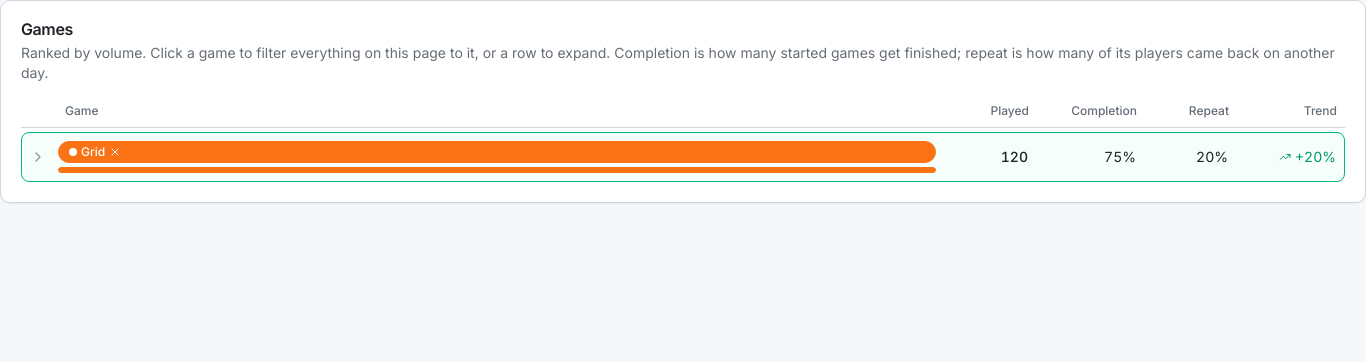
the game leaderboard explains its player figures › offers the definition for both, on the expanded row
The width and height of the screenshot is (1366, 362).
What coordinates should you click on to do the following:
click the button named "Expand details"
I would click on:
 (38, 157)
Its box is x1=30 y1=149 x2=46 y2=165.
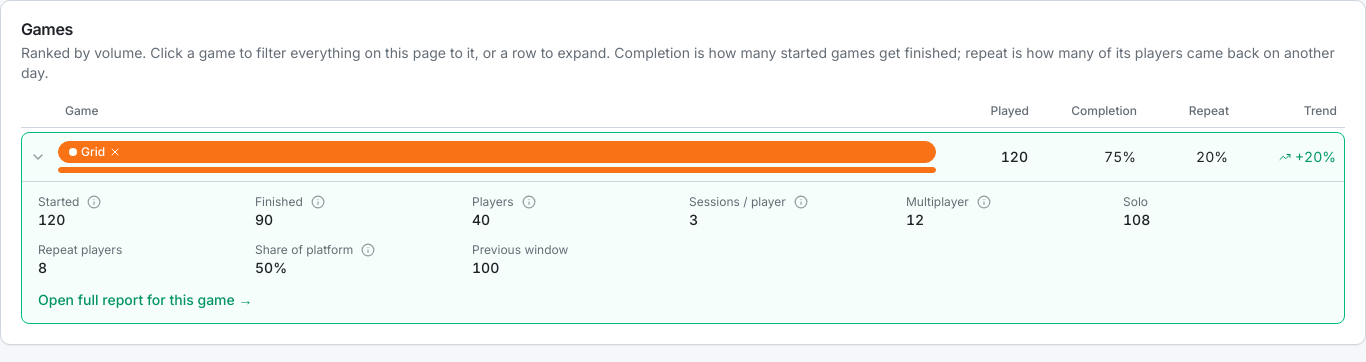
Check: the button named "What \"distinct_players\" means" is shown, box x1=522 y1=195 x2=536 y2=209
Check: the button named "What \"sessions_per_player\" means" is shown, box x1=794 y1=195 x2=808 y2=209
